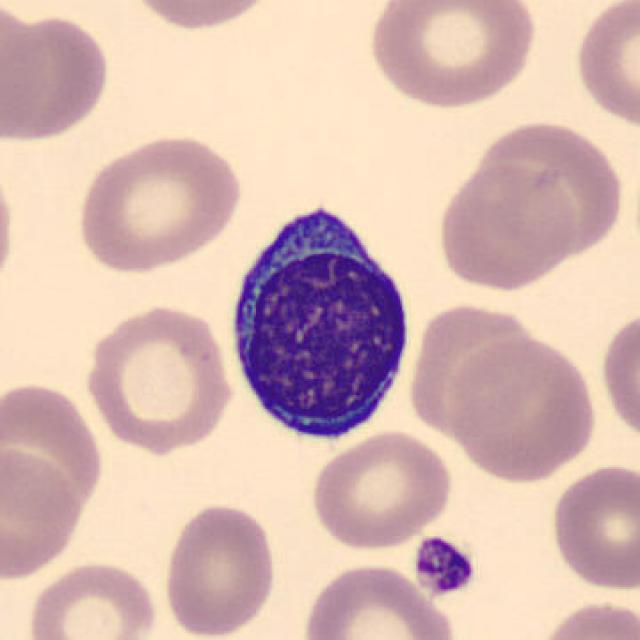Lymphocyte: (218, 194, 420, 450)
Platelets: (411, 532, 480, 600)
RBC: (71, 131, 247, 275), (462, 116, 630, 264), (444, 331, 601, 485), (82, 299, 236, 456), (434, 157, 581, 293), (364, 0, 542, 111), (406, 303, 550, 440), (306, 428, 455, 552), (160, 499, 281, 640), (0, 376, 107, 527), (3, 7, 114, 145), (297, 559, 464, 640), (546, 460, 638, 594), (0, 444, 85, 581), (23, 557, 162, 640), (569, 0, 638, 134), (0, 0, 53, 144), (598, 305, 638, 448), (119, 0, 282, 33), (529, 597, 638, 640)
